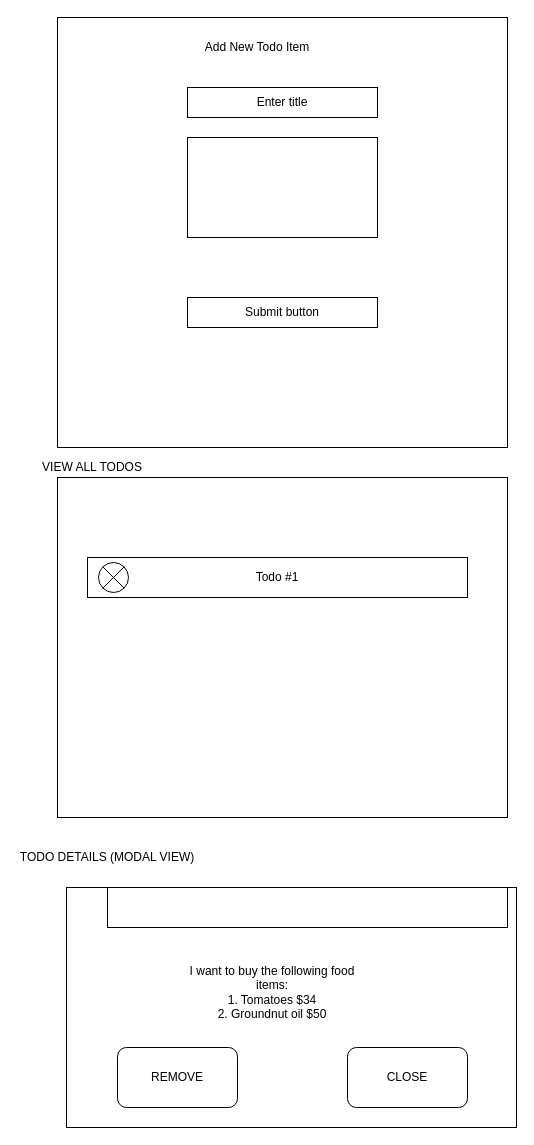
This 534x1145 diagram has some shape labels left out. Here are the shapes that lost their labels. From the top down, the centre of each, then its label:
At (x=282, y=187): "Enter description".
At (x=307, y=907): "Buy Some Food Items".
